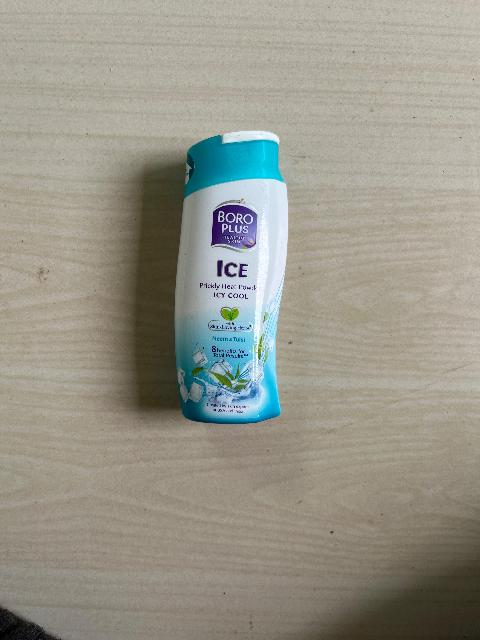boroplus: (176, 126, 294, 428)
